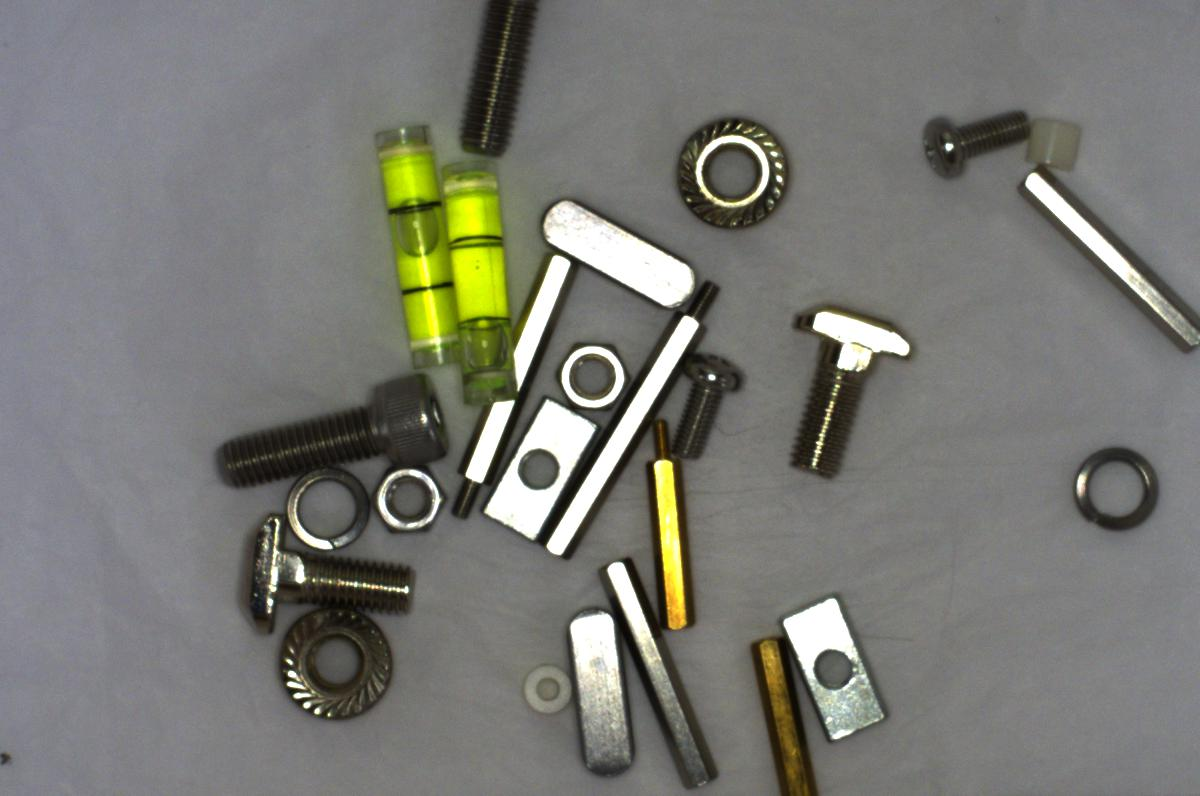Double hexagonal column: (1011, 159, 1197, 365), (605, 542, 720, 792)
Flange nut: (265, 599, 408, 733), (664, 106, 803, 236)
Hexagon nut: (370, 462, 446, 541), (557, 332, 628, 409)
Hexagon pillar: (734, 626, 826, 790), (641, 414, 694, 630)
Hexagon screw: (223, 369, 448, 480)
Hexagonal steel column: (537, 273, 729, 560), (444, 242, 587, 526)
Horizontal bubble: (367, 110, 465, 369), (437, 150, 520, 409)
Keybar: (530, 195, 702, 312), (556, 595, 639, 785)
Plastic cushion pillar: (515, 655, 576, 724), (1023, 109, 1087, 172)
Rectangular nut: (782, 583, 888, 750), (479, 399, 596, 548)
Round head screw: (911, 89, 1034, 183), (674, 356, 743, 460)
Spring washer: (1061, 431, 1170, 548), (280, 465, 376, 554)
T-shaped screw: (780, 282, 923, 483), (221, 508, 426, 633)
